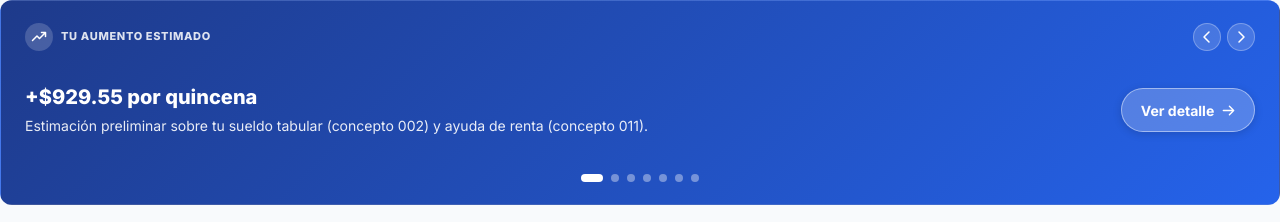
Scenario: HomeHighlightsCarousel › 6. calculadoras concretas aparecen como slide con enlace a /calculadoras y herramientas reales
What coordinates should you click on to do the following:
click the tab named "Calcula tus prestaciones"
I would click on:
 (679, 178)
Its box is [675,174,683,182].
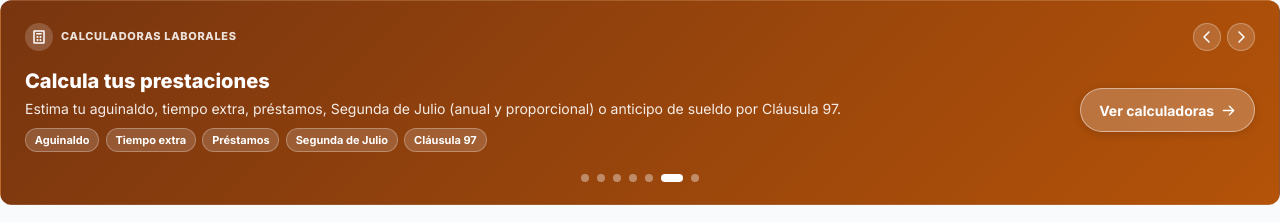
Expected: the element with test id "highlight-calculators" is shown
Expected: the text "Aguinaldo" is shown, [25,128,99,152]
Expected: the text "Tiempo extra" is shown, [106,128,196,152]
